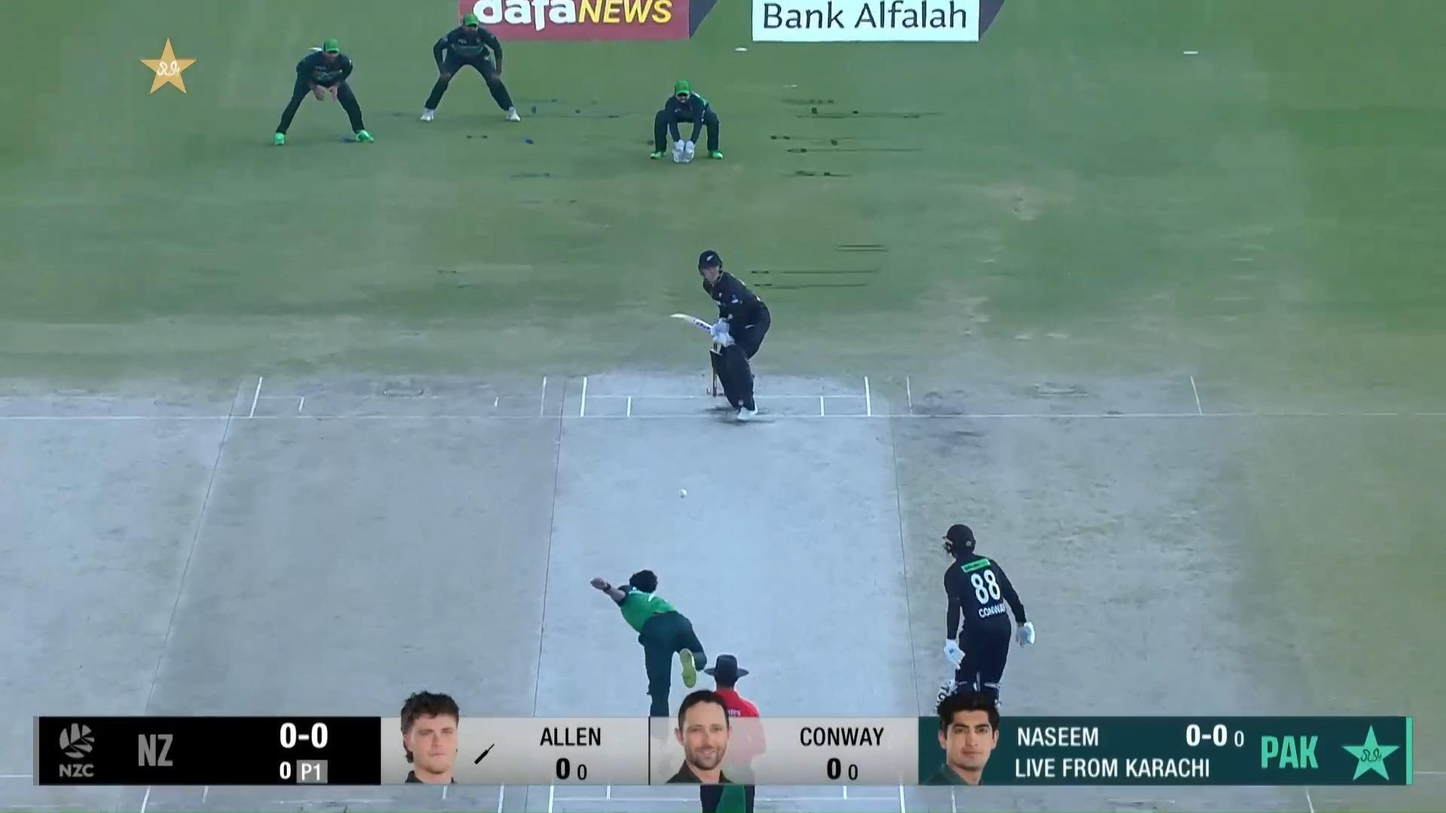BM 1: (667, 248, 773, 423)
BO: (588, 567, 708, 719)
